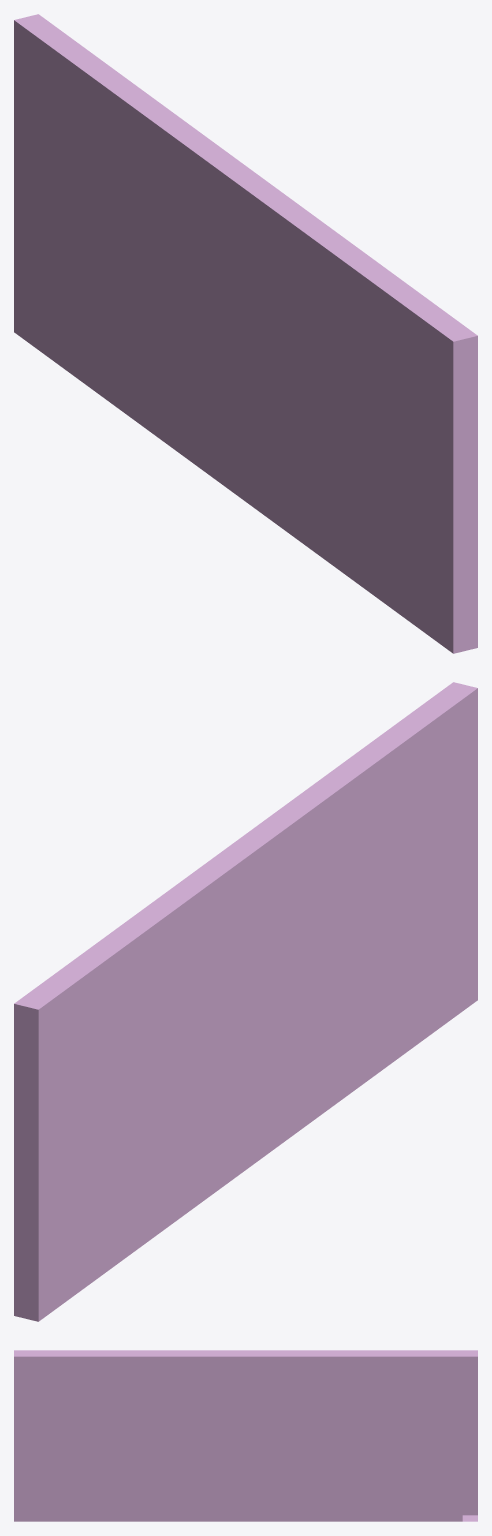
The model's file is Wall_L_2.fbx.
3 renders of one model, top to bottom at view 1: azimuth 30°, elevation 25°; view 2: azimuth 150°, elevation 25°; view 3: azimuth 270°, elevation 25°, orthographic. The views are drawn at different scales.
Parts seen in each view (by area): view 1: Wall L 2; view 2: Wall L 2; view 3: Wall L 2.
Boxes of the visible parts, box(x1,y1,x2,y2) form: Wall L 2: box(14, 14, 477, 653); Wall L 2: box(14, 682, 477, 1321); Wall L 2: box(14, 1350, 477, 1521).
Bounding box in the file's own units: 80 × 972 × 2480.
